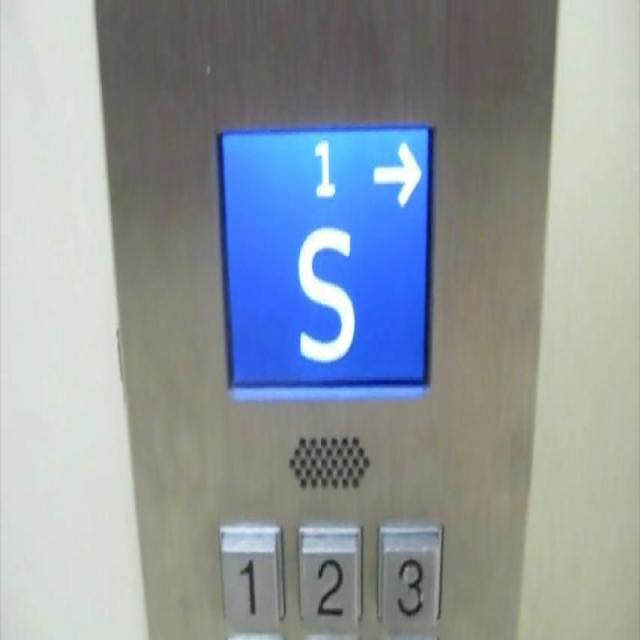1: (217, 517, 286, 632)
2: (295, 519, 366, 633)
3: (376, 517, 444, 635)
led: (216, 120, 435, 397)
